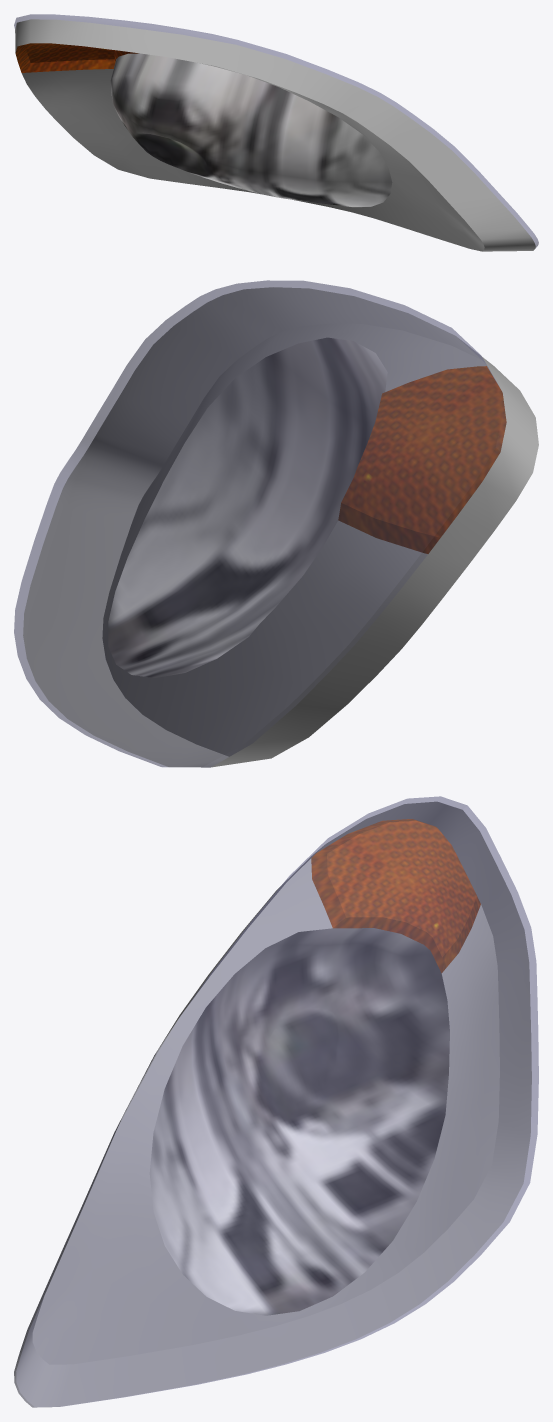
3 renders of one model, top to bottom at view 1: azimuth 30°, elevation 25°; view 2: azimuth 150°, elevation 25°; view 3: azimuth 270°, elevation 25°, orthographic. The views are drawn at different scales.
Visible parts, largest first — view 1: H811_061B_L_1_DaS_H811_061B_L, H811_061B_L_H811_061B_L_2_N, H811_061B_L_H811_061B_L_5_DTaSI, H811_061B_L_H811_061B_L_3_N; view 2: H811_061B_L_H811_061B_L_5_DTaSI, H811_061B_L_1_DaS_H811_061B_L, H811_061B_L_H811_061B_L_2_N, H811_061B_L_H811_061B_L_3_N; view 3: H811_061B_L_H811_061B_L_5_DTaSI, H811_061B_L_1_DaS_H811_061B_L, H811_061B_L_H811_061B_L_2_N, H811_061B_L_H811_061B_L_3_N.
Boxes of the visible parts, box(x1,y1,x2,y2) form: H811_061B_L_1_DaS_H811_061B_L: box(15, 19, 535, 251); H811_061B_L_H811_061B_L_2_N: box(110, 53, 392, 207); H811_061B_L_H811_061B_L_5_DTaSI: box(14, 14, 538, 248); H811_061B_L_H811_061B_L_3_N: box(15, 43, 138, 72); H811_061B_L_H811_061B_L_5_DTaSI: box(14, 280, 506, 767); H811_061B_L_1_DaS_H811_061B_L: box(23, 287, 538, 767); H811_061B_L_H811_061B_L_2_N: box(108, 337, 387, 677); H811_061B_L_H811_061B_L_3_N: box(338, 366, 506, 553); H811_061B_L_H811_061B_L_5_DTaSI: box(14, 796, 538, 1407); H811_061B_L_1_DaS_H811_061B_L: box(14, 801, 531, 1407); H811_061B_L_H811_061B_L_2_N: box(149, 928, 449, 1315); H811_061B_L_H811_061B_L_3_N: box(311, 819, 480, 972).
Size of the model in its own units: 48.85 by 28.51 by 38.28.
